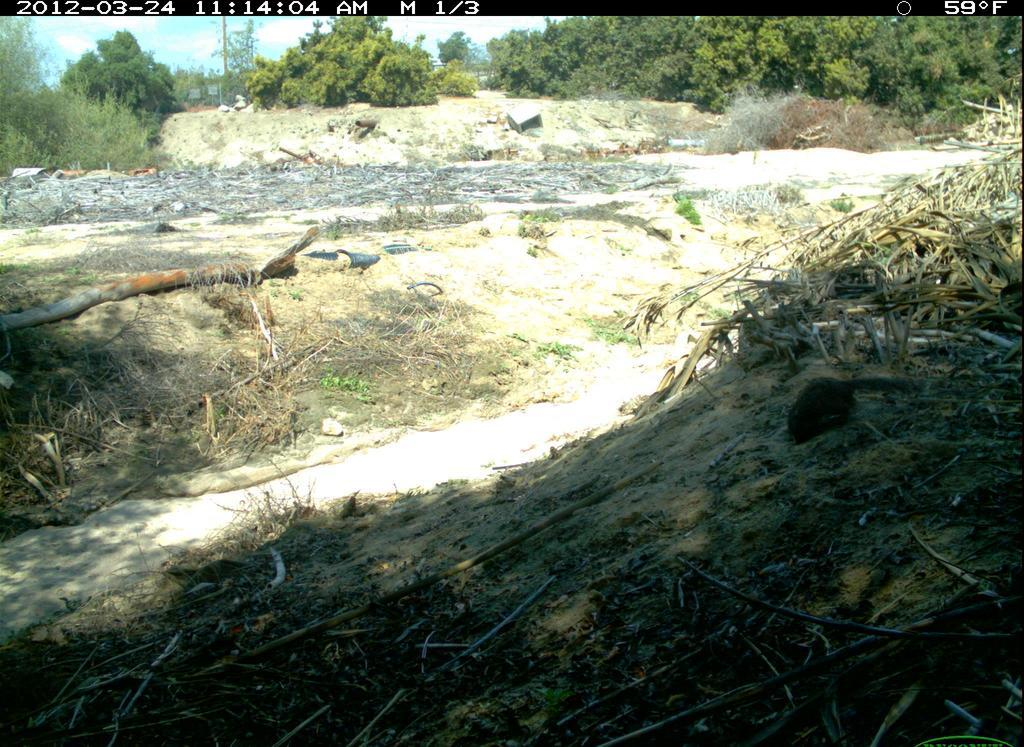squirrel: (776, 364, 916, 454)
